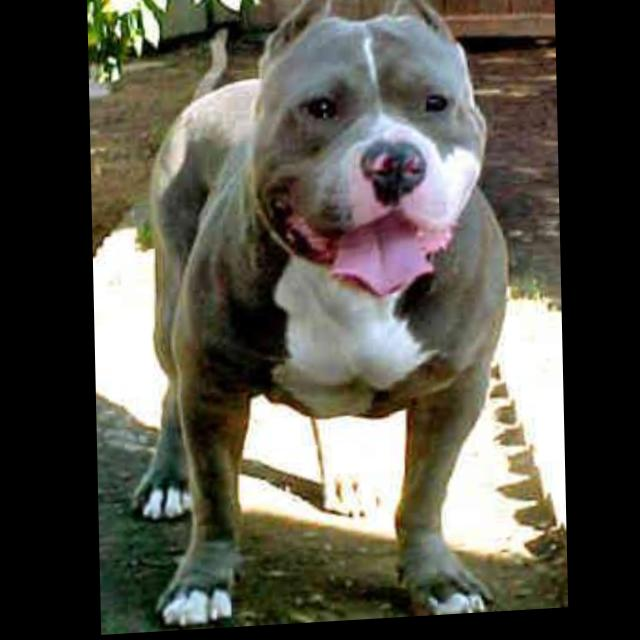amstaff: (118, 1, 513, 636)
